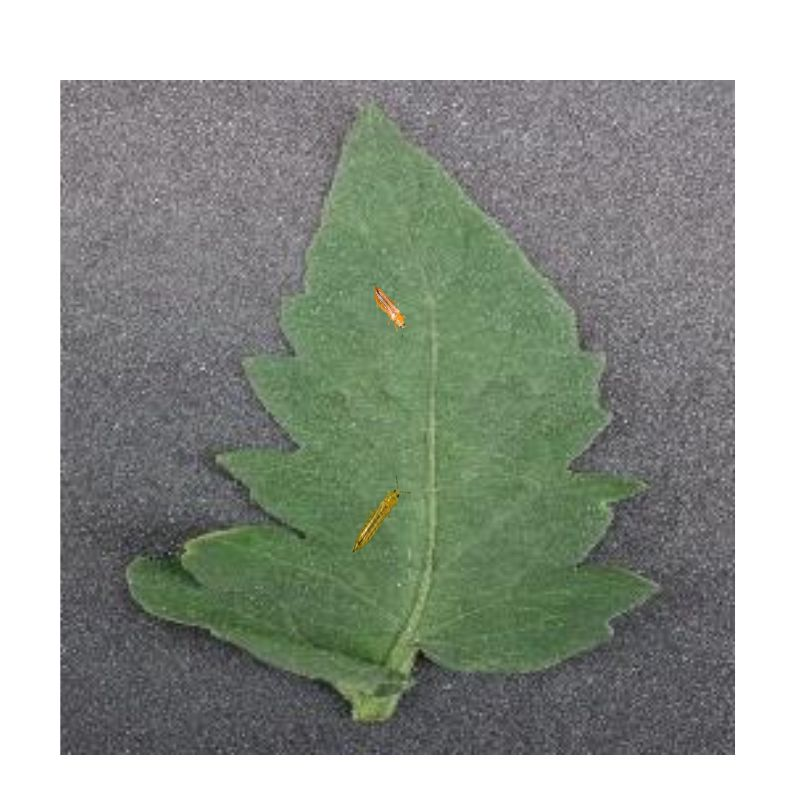thrips: (349, 475, 415, 552), (373, 282, 409, 332)
